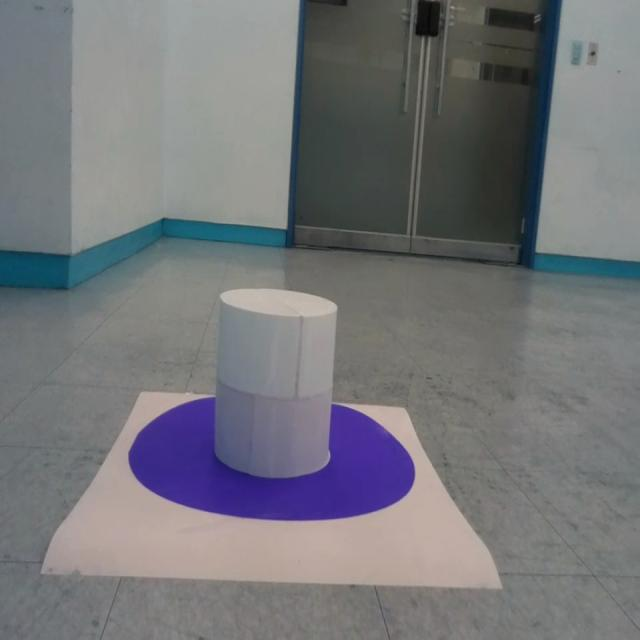cylinder: (214, 288, 338, 478)
